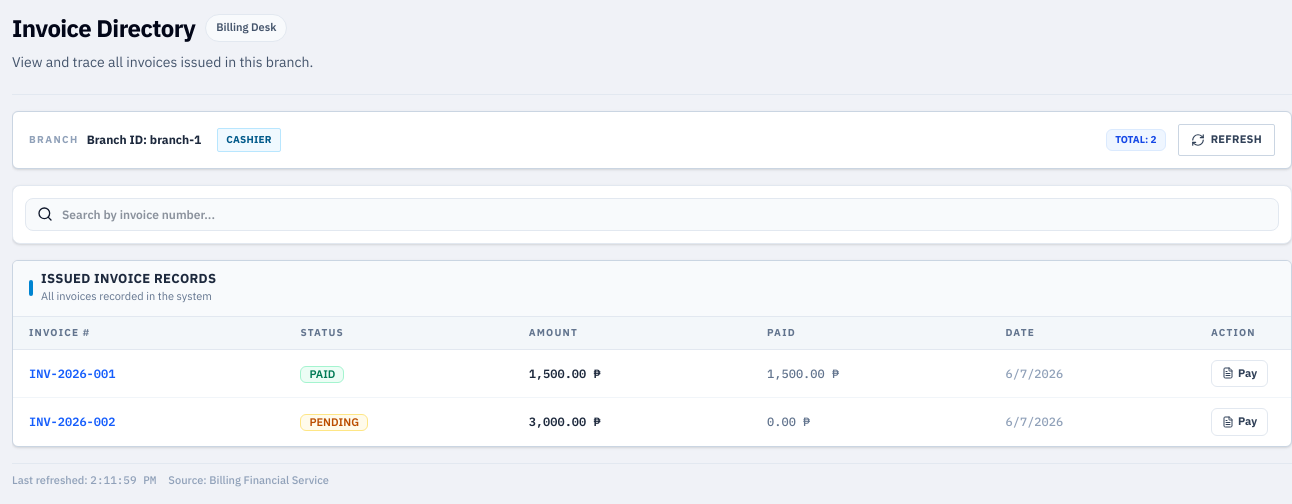
InvoicesPage Unit Tests › filters invoices based on search query
This screenshot has width=1292, height=504.
Step 1. Type "002" into the field with placeholder "Search by invoice number..." → (652, 215), box top-left (25, 198), bottom-right (1279, 231)
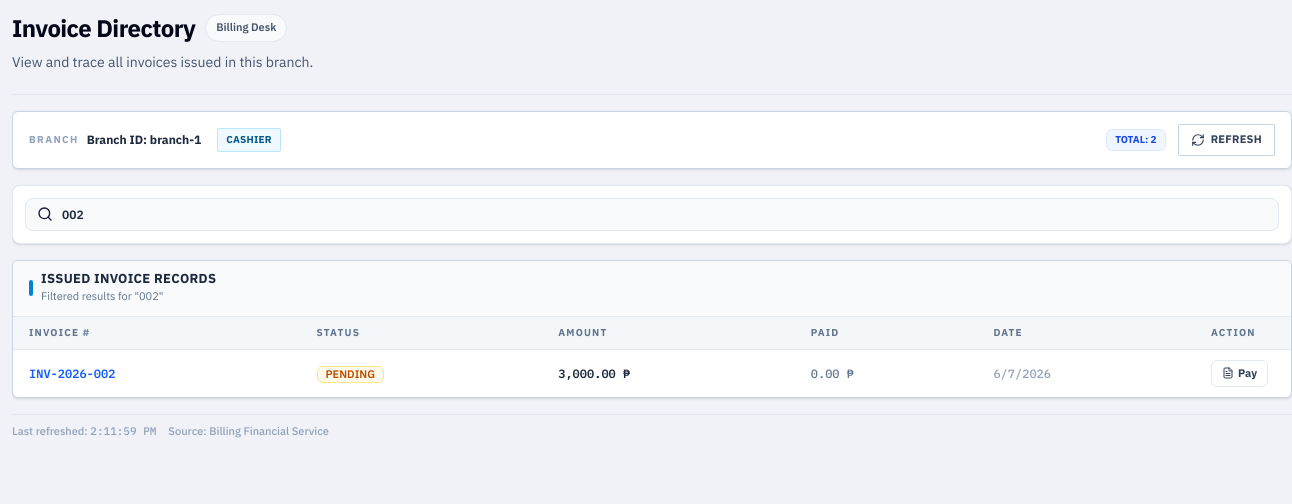
Expected: the text "INV-2026-002" is shown, top-left (29, 366), bottom-right (115, 381)
Expected: the button "INV-2026-001" is gone
